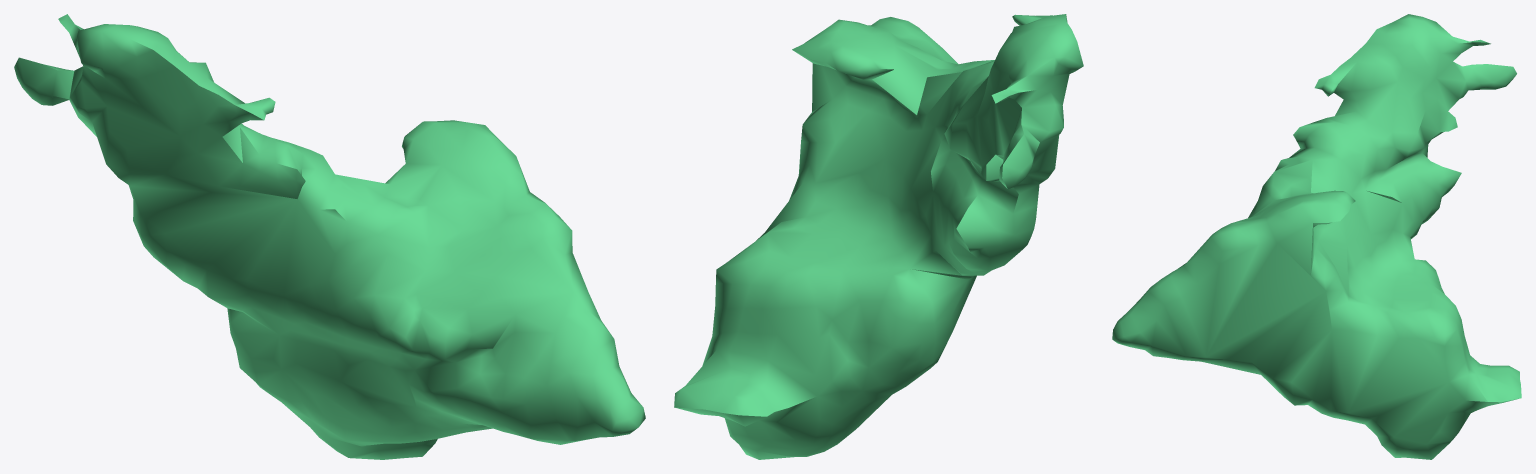
The model's file is spl-301.glb.
The picture shows the model from 3 angles, left to right: view 1: azimuth 30°, elevation 25°; view 2: azimuth 150°, elevation 25°; view 3: azimuth 270°, elevation 25°; orthographic projection. The views are drawn at different scales.
Parts seen in each view (by area): view 1: spl-301; view 2: spl-301; view 3: spl-301.
Boxes of the visible parts, x1,y1,x2,y2 form: spl-301: (14,14,645,459); spl-301: (674,14,1083,459); spl-301: (1112,14,1521,459).
Bounding box in the file's own units: 13.98 × 18.85 × 20.44.
